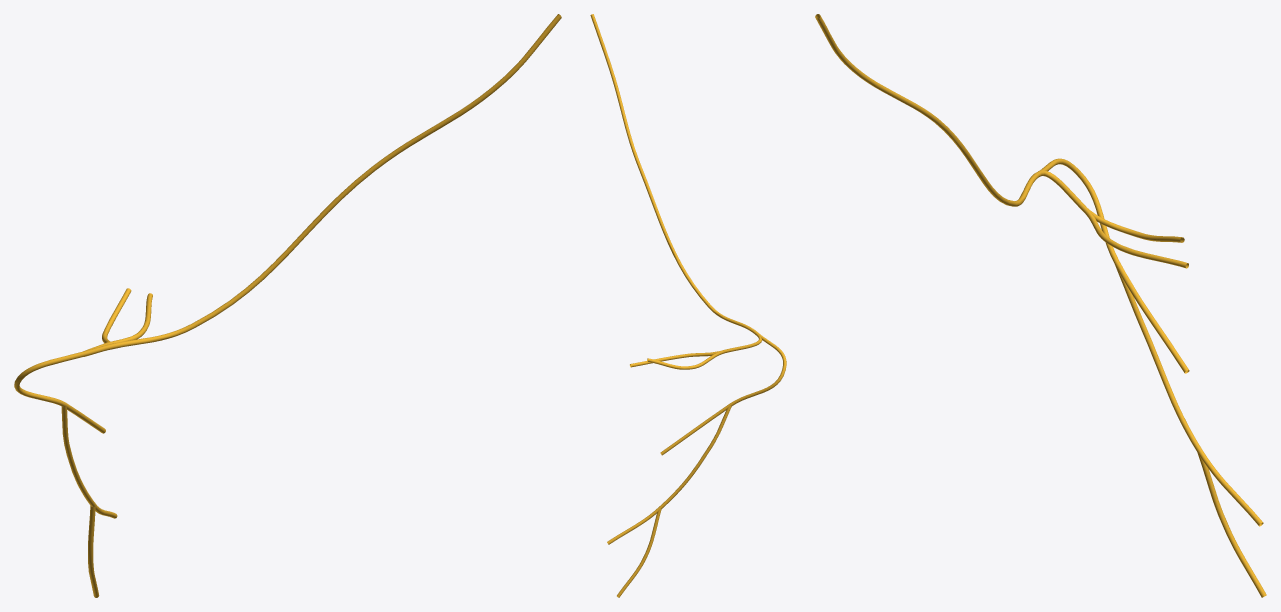
Rendered from nervoso-suprascapular-nerve-r.glb.
3 views of the same model, side by side, from view 1: azimuth 30°, elevation 25°; view 2: azimuth 150°, elevation 25°; view 3: azimuth 270°, elevation 25° (orthographic). The views are drawn at different scales.
Visible parts, largest first — view 1: Suprascapular nerve.r; view 2: Suprascapular nerve.r; view 3: Suprascapular nerve.r.
Part boxes in pixels (bbox=[...]): Suprascapular nerve.r: bbox=[14, 14, 561, 597]; Suprascapular nerve.r: bbox=[590, 14, 786, 597]; Suprascapular nerve.r: bbox=[815, 14, 1266, 597].
Size of the model in its own units: 0.0894 by 0.1374 by 0.079.
